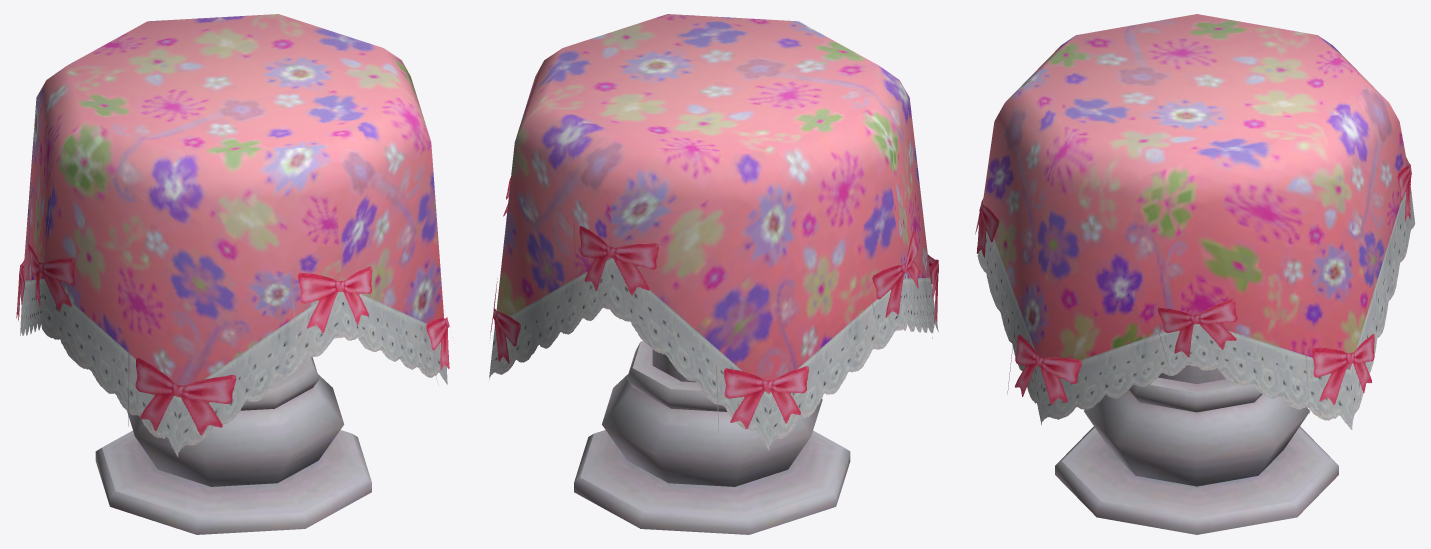
File: furni_0200009.FBX
3 renders of one model, left to right at view 1: azimuth 30°, elevation 25°; view 2: azimuth 150°, elevation 25°; view 3: azimuth 270°, elevation 25°, orthographic.
Visible parts, largest first — view 1: furni_0200009; view 2: furni_0200009; view 3: furni_0200009.
Part boxes in pixels (x1,y1,x2,y2): furni_0200009: (16, 14, 449, 534); furni_0200009: (489, 14, 938, 534); furni_0200009: (975, 14, 1415, 534).
Size of the model in its own units: 83.54 by 80 by 83.53.
